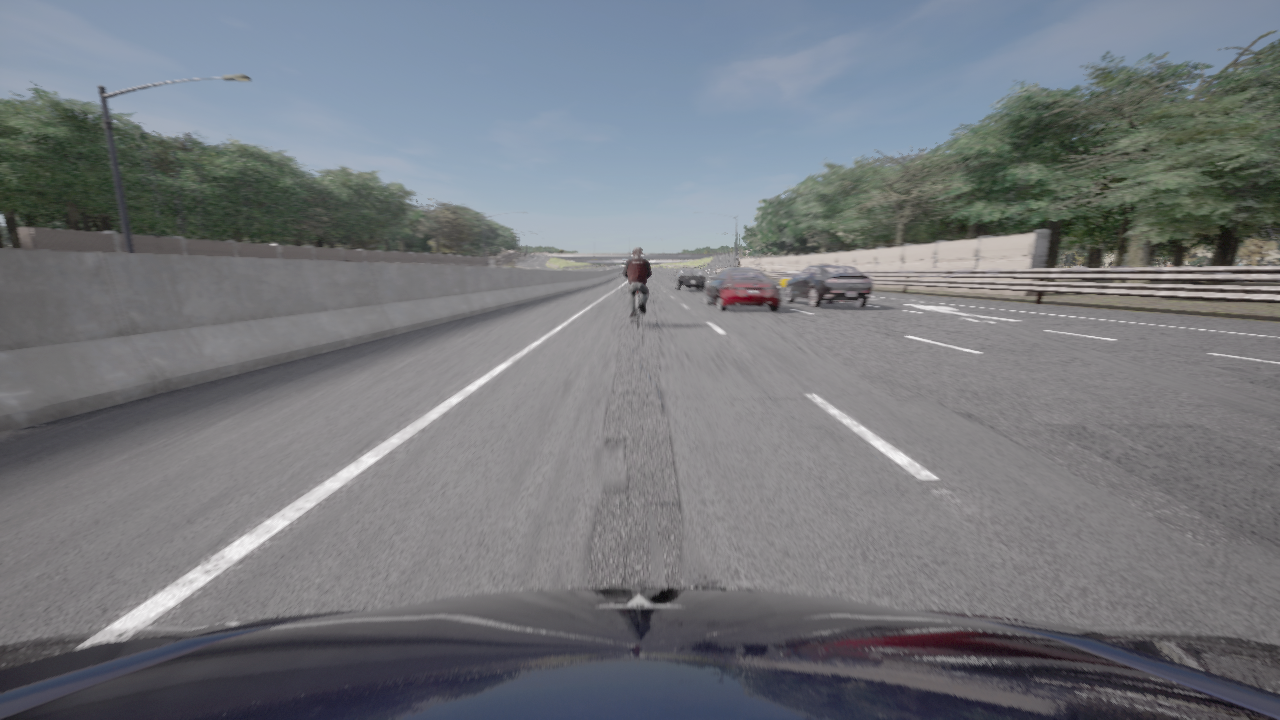cyclist: (0, 588, 1279, 719), (784, 265, 871, 307), (704, 268, 781, 311), (673, 267, 704, 291), (778, 271, 799, 290), (631, 292, 639, 328)
